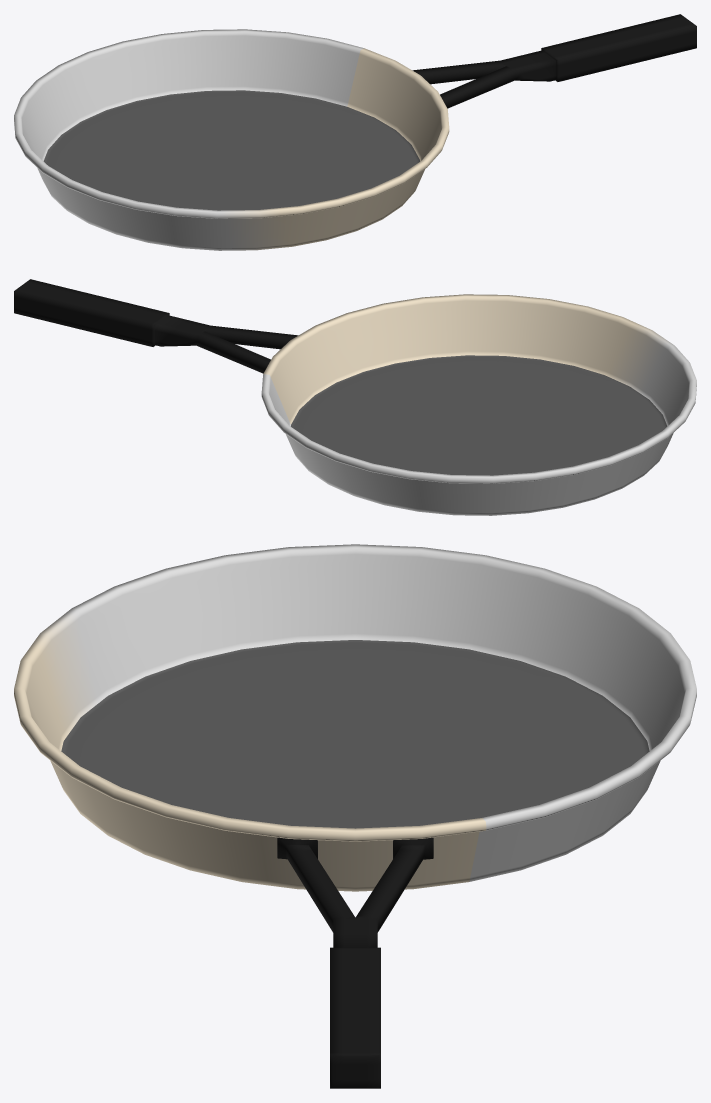
File: Pan (1).fbx
3 views of the same model, one above another, from view 1: azimuth 30°, elevation 25°; view 2: azimuth 150°, elevation 25°; view 3: azimuth 270°, elevation 25° (orthographic). The views are drawn at different scales.
Visible parts, largest first — view 1: Pan; view 2: Pan; view 3: Pan.
Boxes of the visible parts, x1,y1,x2,y2 form: Pan: [14, 14, 696, 250]; Pan: [14, 279, 696, 515]; Pan: [14, 544, 696, 1088].
Bounding box in the file's own units: 0.4416 × 0.0322 × 0.2578.
